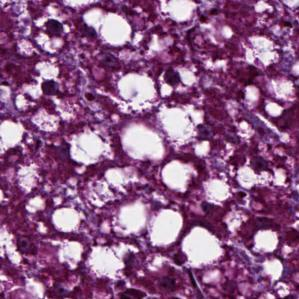steatosis: (148, 208, 184, 251)
